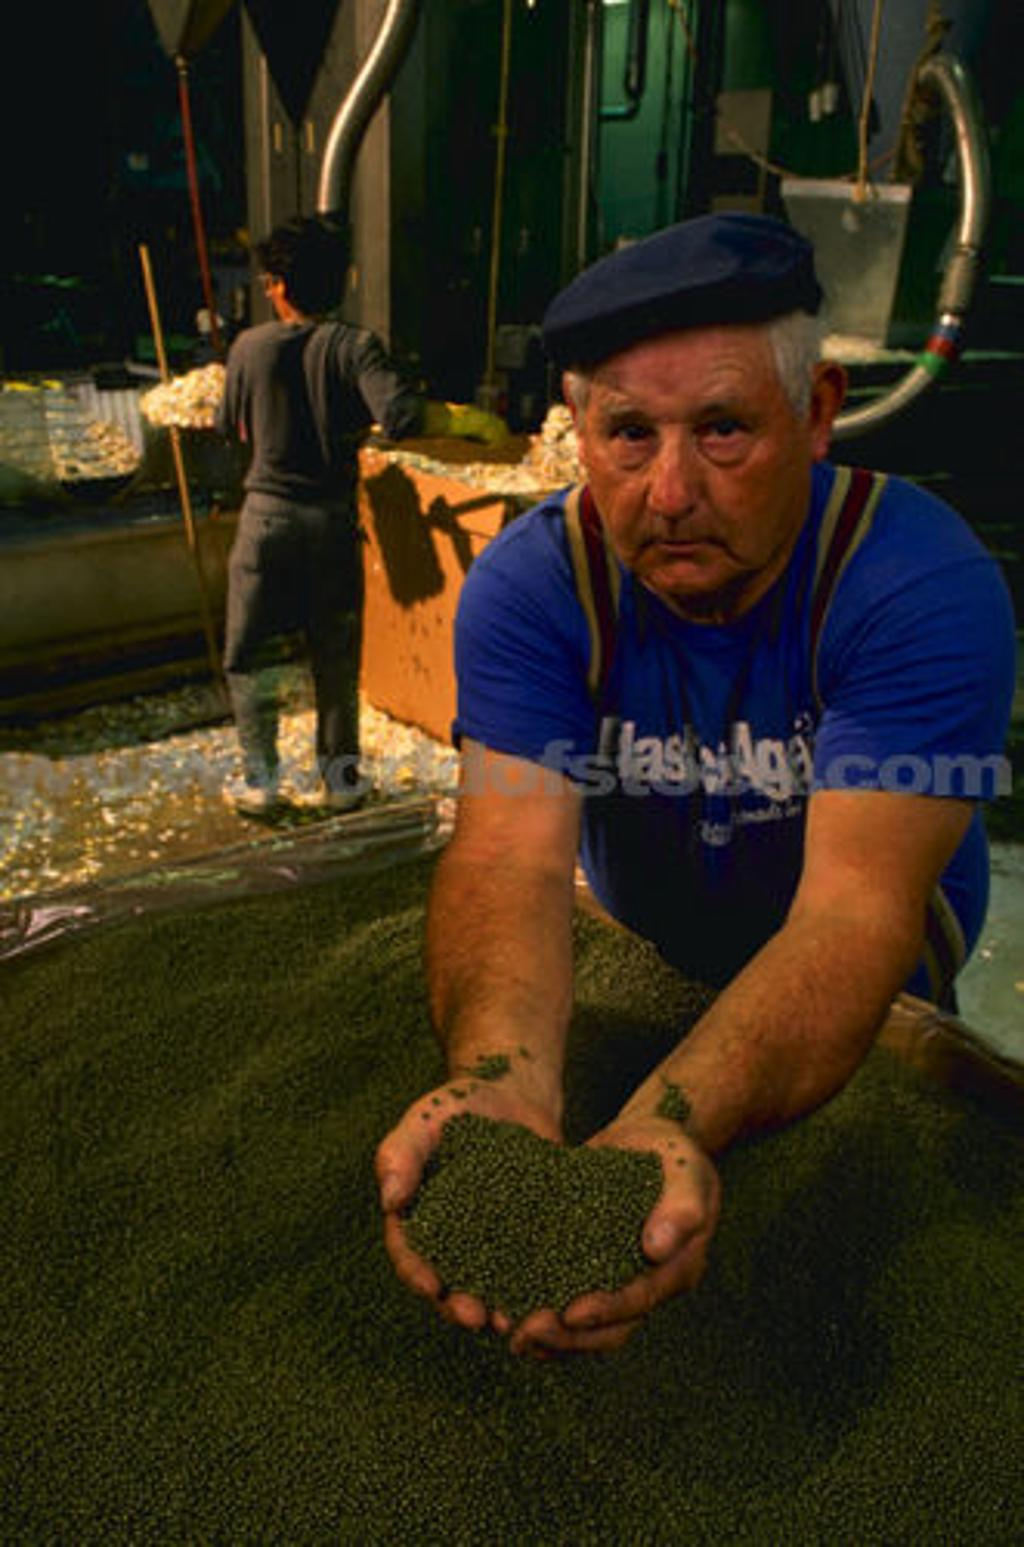face: (580, 311, 788, 586)
